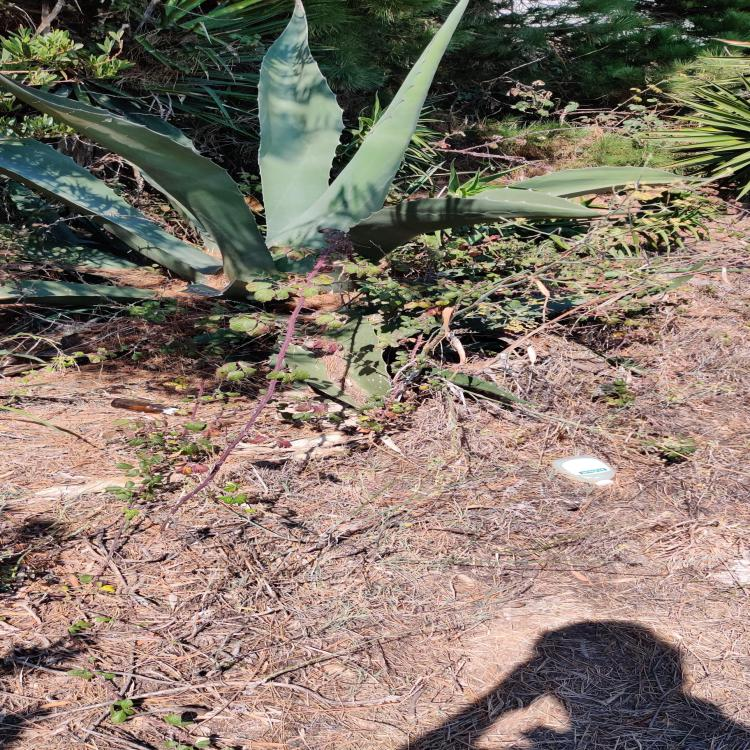Glass bottle: (112, 397, 192, 416)
Plastic bottle cap: (597, 481, 616, 488)
